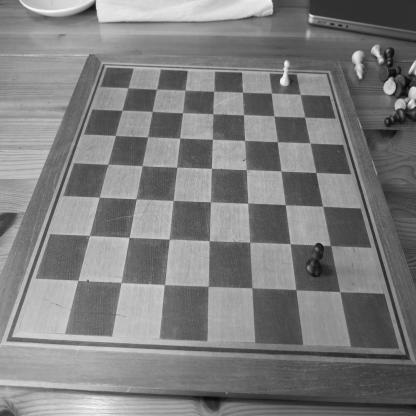black-pawn: (305, 242, 325, 277), (383, 108, 406, 128), (383, 46, 395, 68)
white-bishop: (352, 50, 366, 81)
white-pawn: (370, 44, 385, 66), (279, 60, 291, 87)
